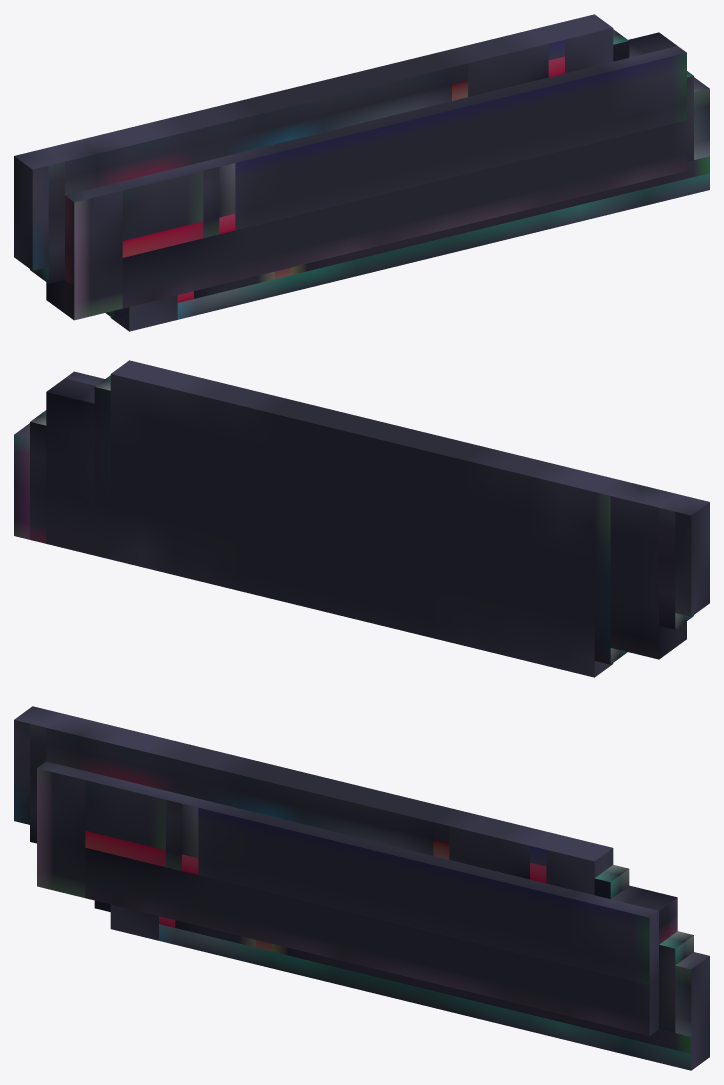
The model's file is Electronics_Plate_Small_G_00.fbx.
3 views of the same model, one above another, from view 1: azimuth 30°, elevation 25°; view 2: azimuth 150°, elevation 25°; view 3: azimuth 330°, elevation 25° (orthographic).
Visible parts, largest first — view 1: Electronics_Plate_Small_G_00; view 2: Electronics_Plate_Small_G_00; view 3: Electronics_Plate_Small_G_00.
Boxes of the visible parts, box(x1,y1,x2,y2) form: Electronics_Plate_Small_G_00: box(14, 14, 709, 331); Electronics_Plate_Small_G_00: box(14, 360, 709, 677); Electronics_Plate_Small_G_00: box(14, 706, 709, 1070).
Size of the model in its own units: 210 by 55 by 15.
